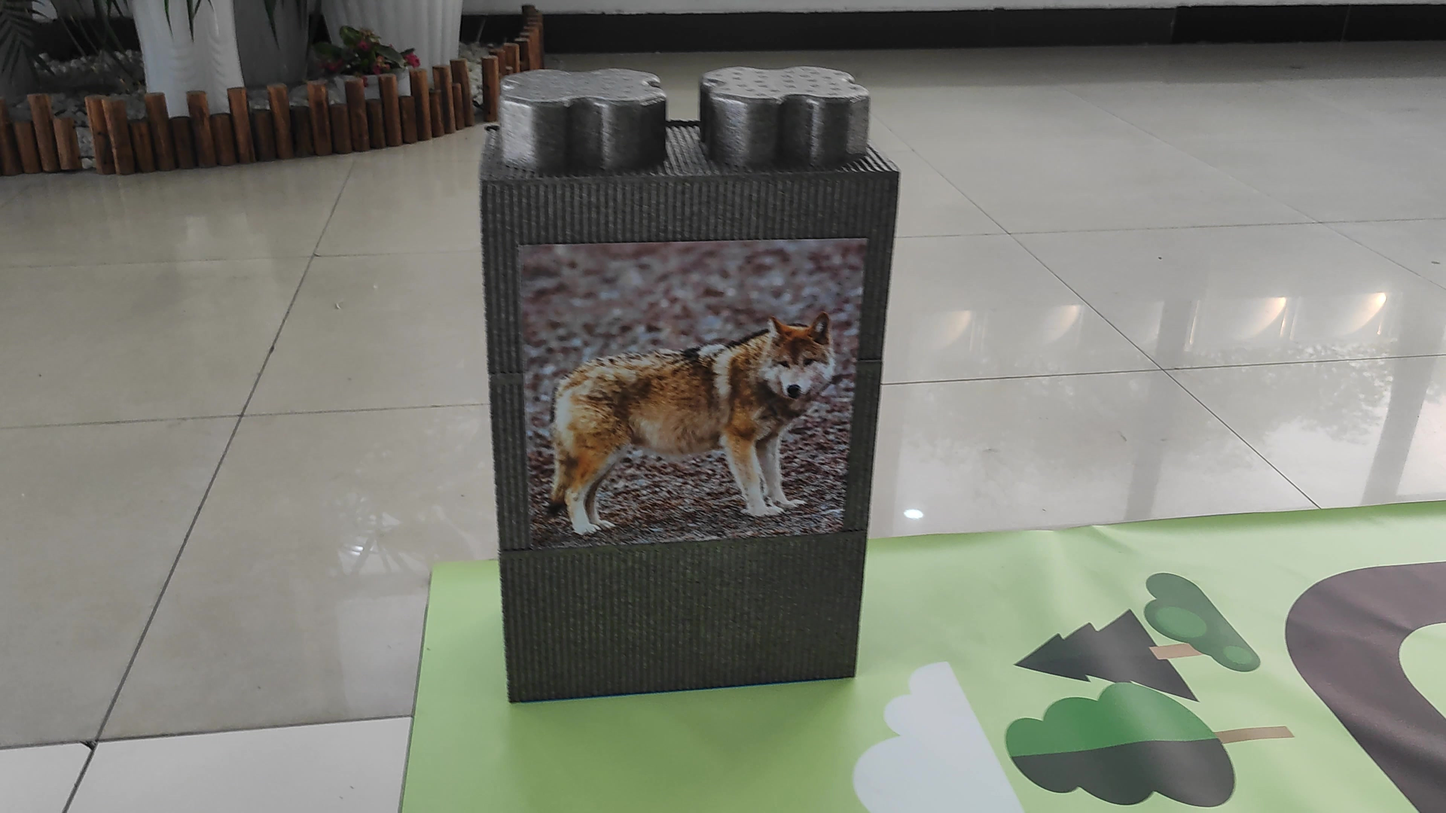wolf: (517, 274, 852, 557)
